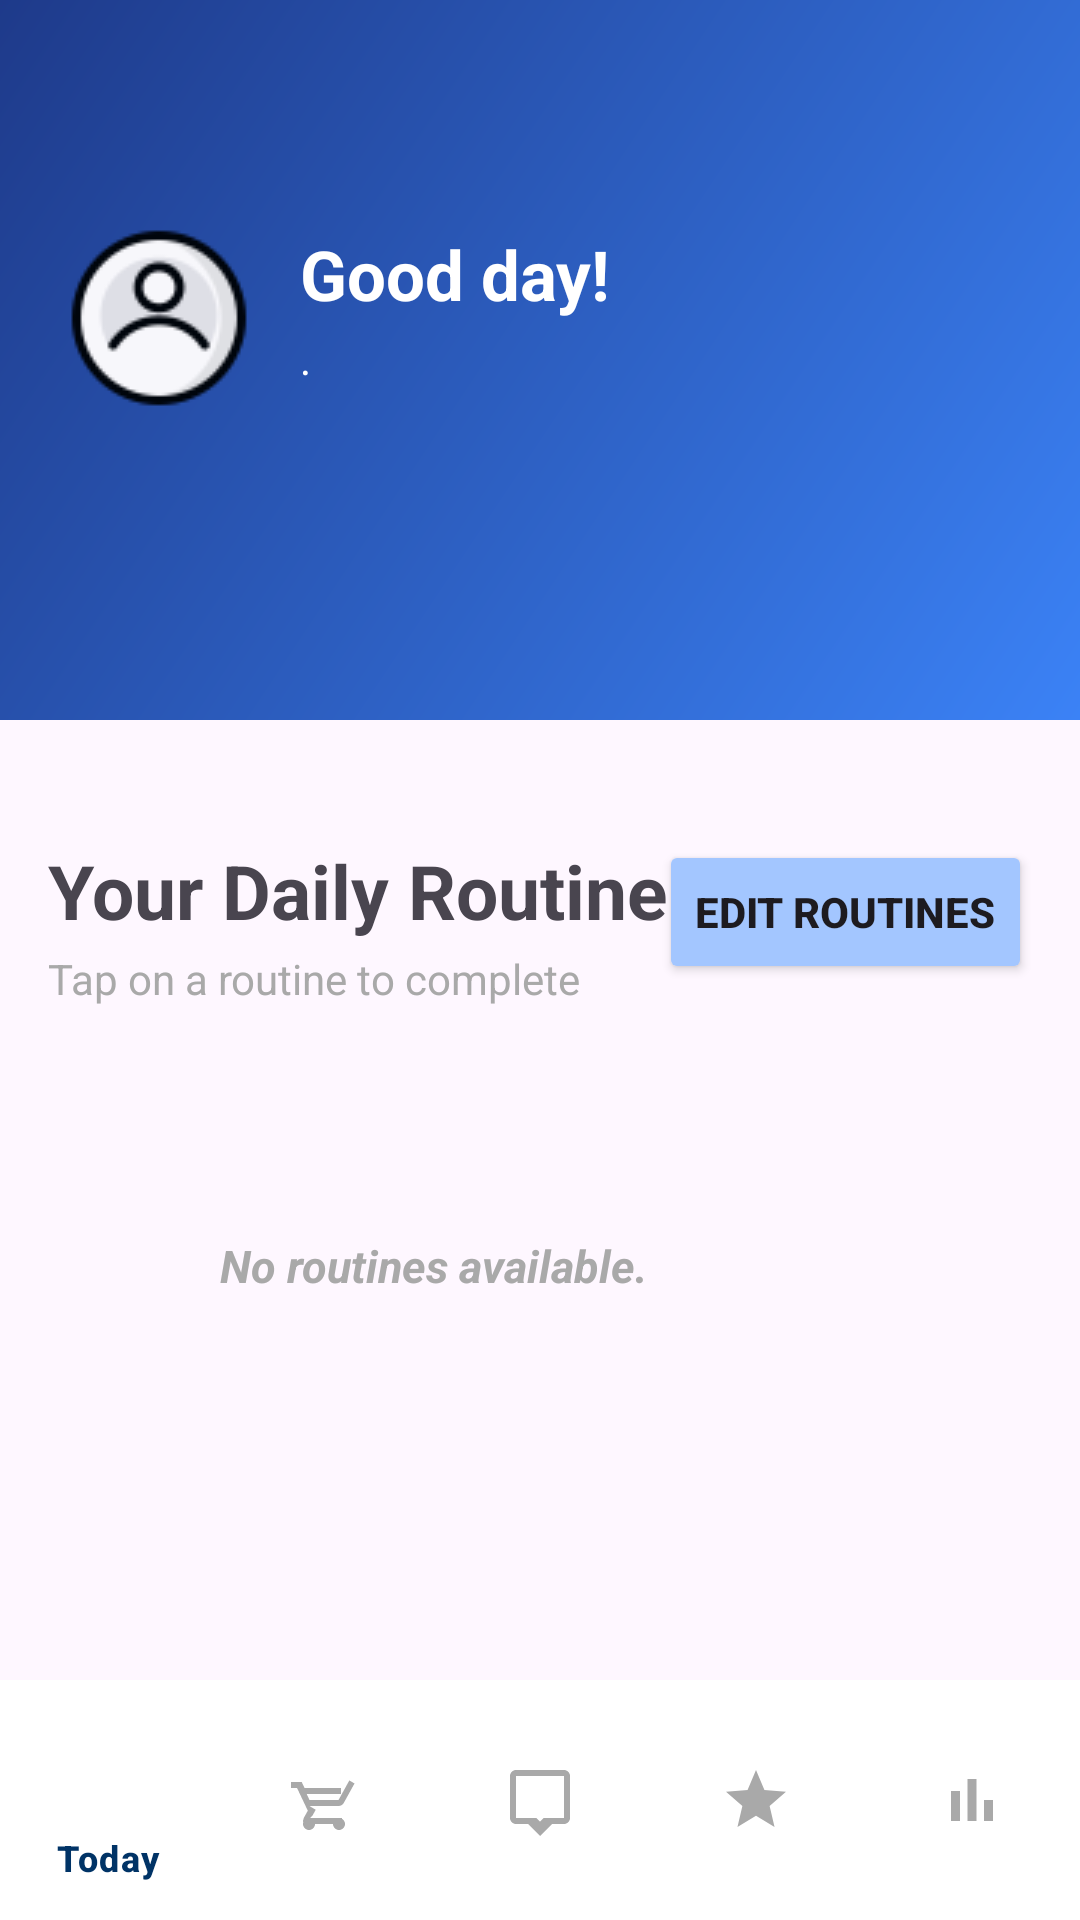

Locate icon controls on the screen. Image size 1080 × 1920, boxes as (x1, y1, x2, y2).
User Account: (71, 230, 247, 406)
